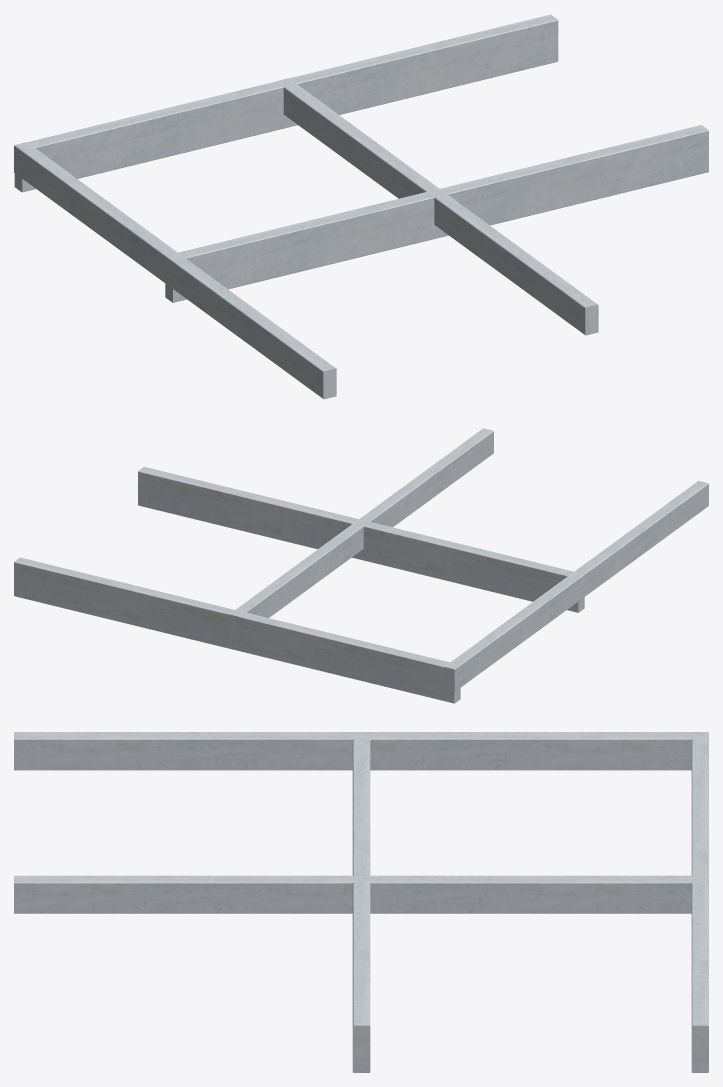
The model's file is Warehouse_Ceiling_02.FBX.
3 renders of one model, top to bottom at view 1: azimuth 30°, elevation 25°; view 2: azimuth 150°, elevation 25°; view 3: azimuth 270°, elevation 25°, orthographic. The views are drawn at different scales.
Visible parts, largest first — view 1: Warehouse_Ceiling_002; view 2: Warehouse_Ceiling_002; view 3: Warehouse_Ceiling_002.
Part boxes in pixels (x1,y1,x2,y2): Warehouse_Ceiling_002: (14, 14, 708, 399); Warehouse_Ceiling_002: (14, 428, 708, 703); Warehouse_Ceiling_002: (14, 732, 708, 1072).
Size of the model in its own units: 480 by 36 by 480.
